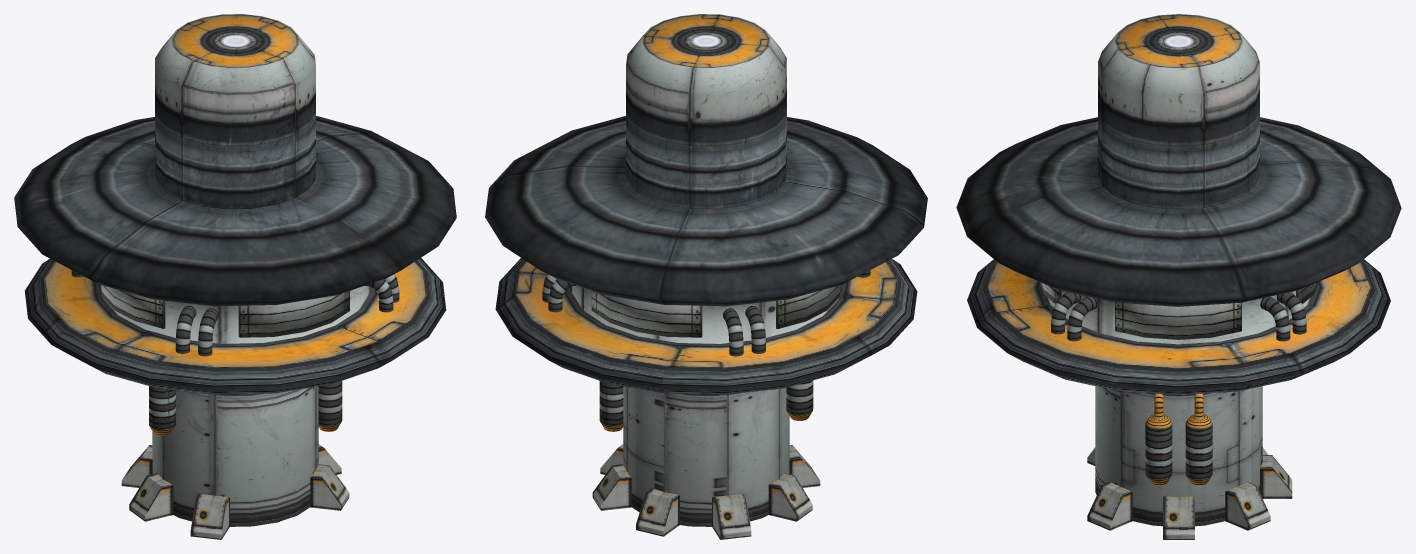
File: predioredondo2.fbx
3 renders of one model, left to right at view 1: azimuth 30°, elevation 25°; view 2: azimuth 150°, elevation 25°; view 3: azimuth 270°, elevation 25°, orthographic.
Parts seen in each view (by area): view 1: Cylinder; view 2: Cylinder; view 3: Cylinder.
Part boxes in pixels (box(x1,y1,x2,y2)): Cylinder: box(14, 14, 456, 539); Cylinder: box(485, 14, 927, 539); Cylinder: box(956, 14, 1401, 539).
Size of the model in its own units: 15.5 by 17.31 by 15.5.
